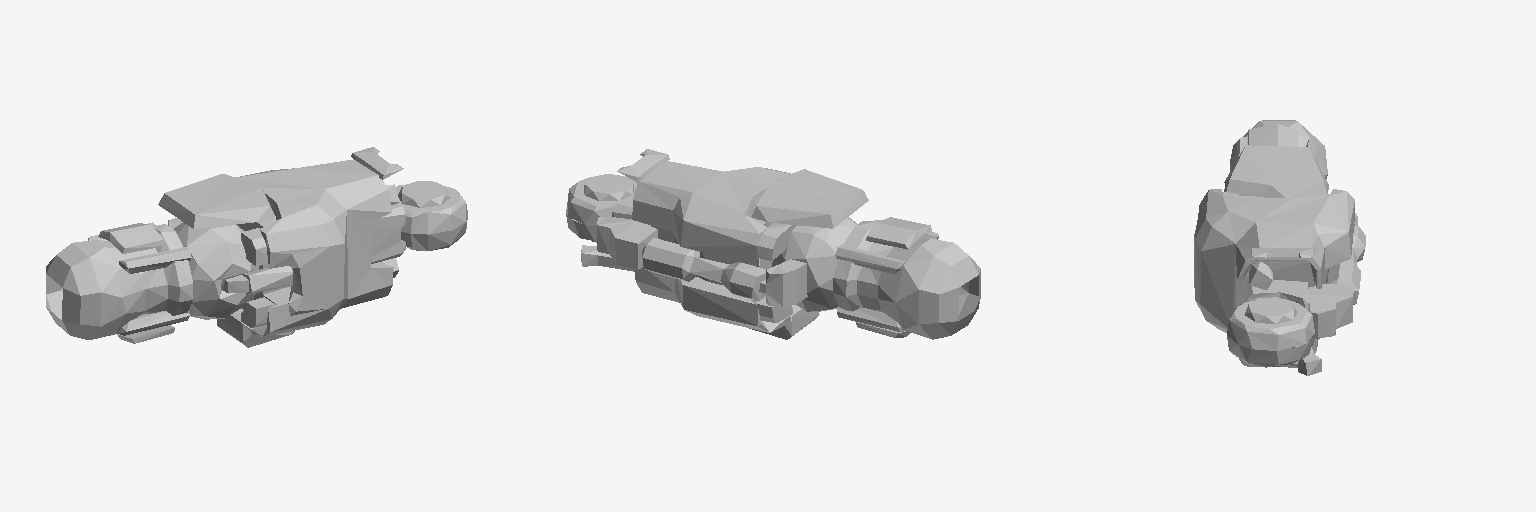
Rendered from Arm_top.obj.
The picture shows the model from 3 angles: view 1: azimuth 30°, elevation 25°; view 2: azimuth 150°, elevation 25°; view 3: azimuth 270°, elevation 25°; orthographic projection.
Parts seen in each view (by area): view 1: arm; view 2: arm; view 3: arm.
Part boxes in pixels (bbox=[...]): arm: bbox=[46, 147, 467, 347]; arm: bbox=[566, 149, 980, 339]; arm: bbox=[1194, 120, 1365, 375].
Bounding box in the file's own units: 22.39 × 7.69 × 8.27.